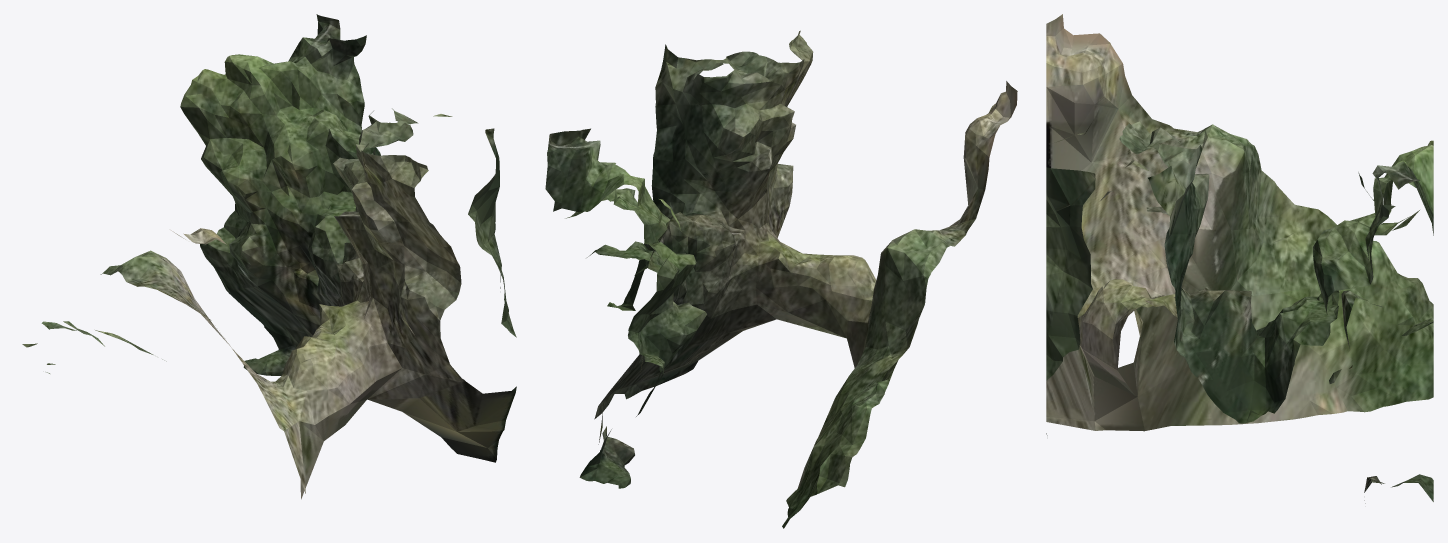
3 renders of one model, left to right at view 1: azimuth 30°, elevation 25°; view 2: azimuth 150°, elevation 25°; view 3: azimuth 270°, elevation 25°, orthographic. The views are drawn at different scales.
Size of the model in its own units: 11.8 by 11.8 by 11.8.
6 materials, 6 textured.
